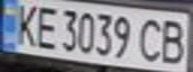0: (75, 8, 96, 55)
3: (57, 6, 81, 53), (93, 10, 115, 57)
9: (109, 11, 136, 60)
B: (154, 16, 190, 65)
C: (136, 15, 169, 63)
E: (30, 2, 60, 51)
K: (6, 0, 42, 47)
